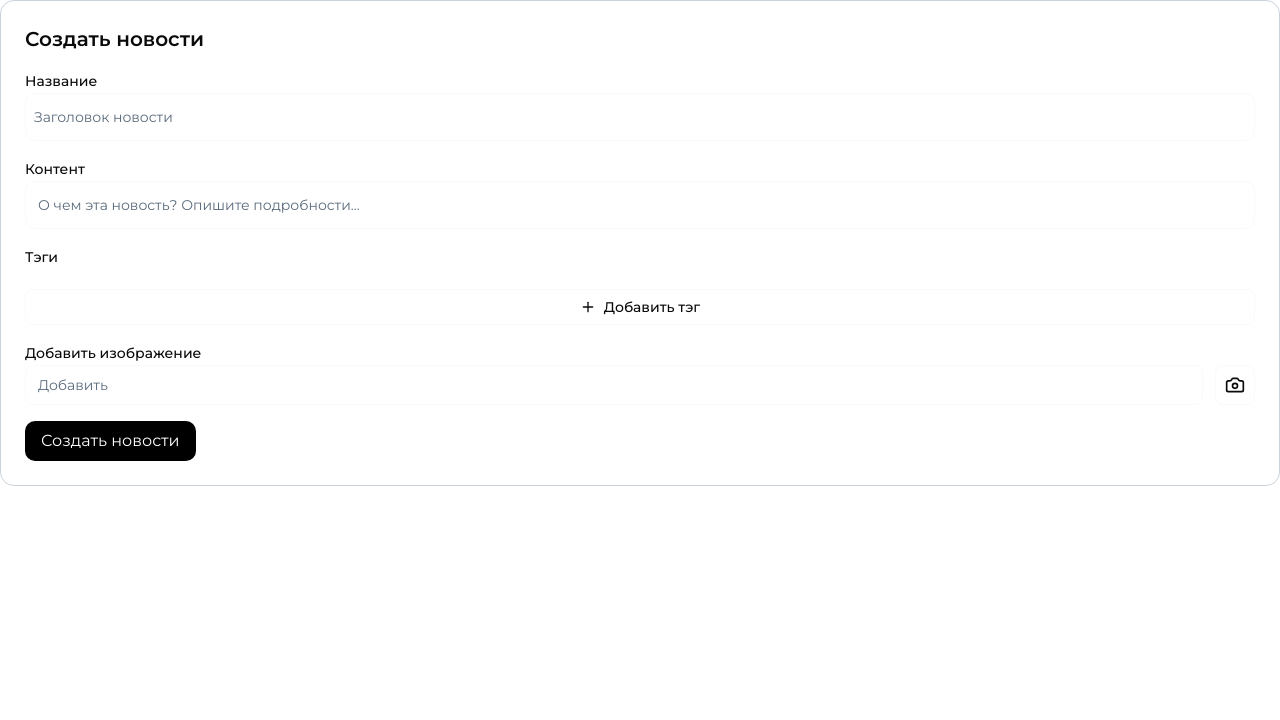
Test: CreateNewsForm › добавляет тэг
Click the button "Добавить тэг" at {"x": 640, "y": 307}, box [25,289,1255,325]
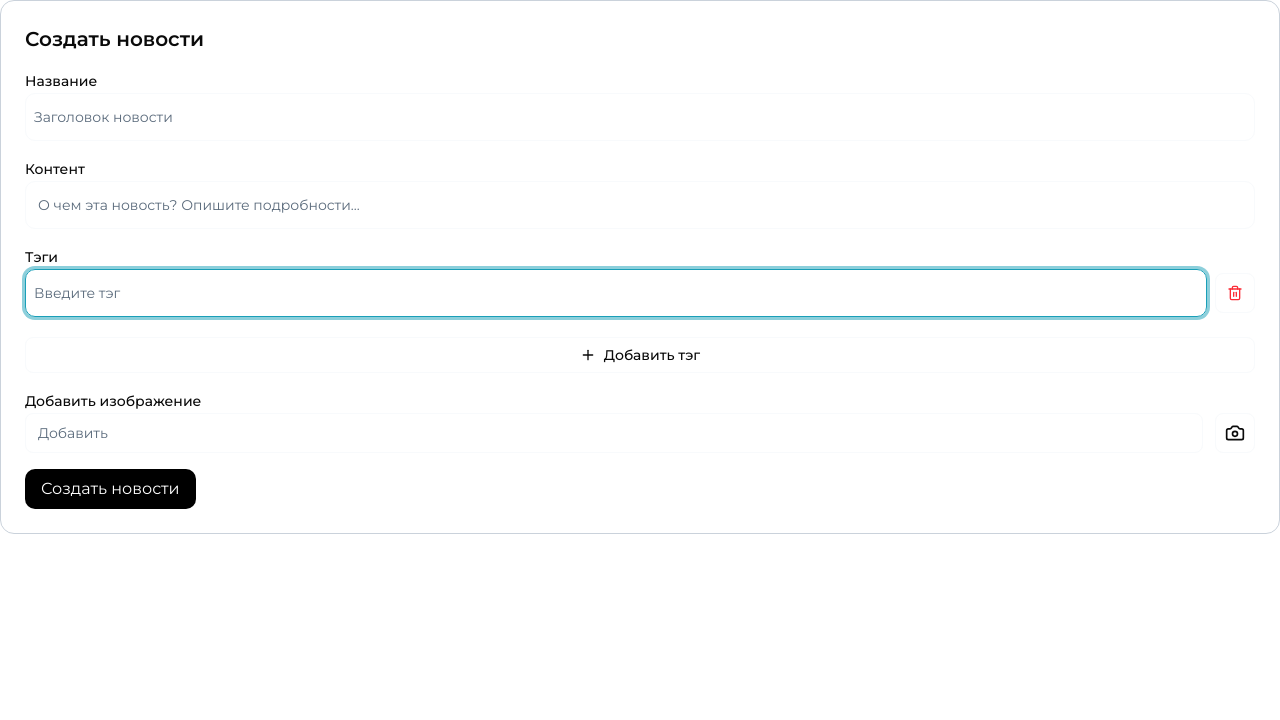
expect the field with placeholder "Введите тэг" is shown: met, box [25,269,1207,317]
